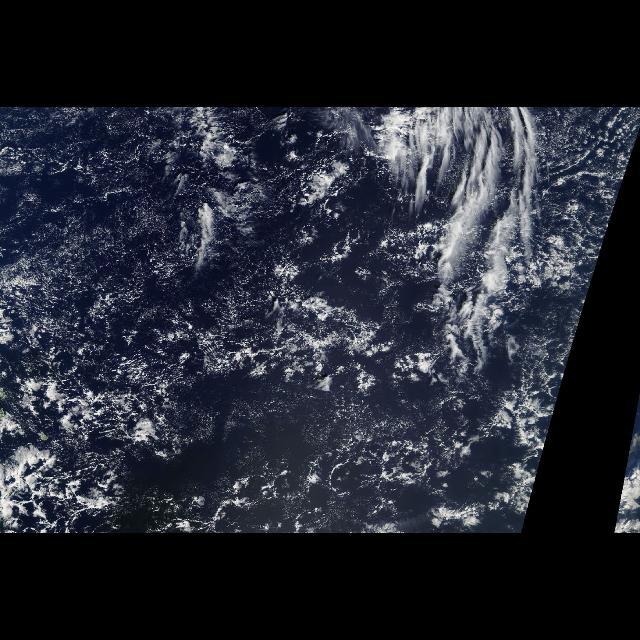Gravel: (2, 280, 186, 456)
Sugar: (0, 107, 174, 255)
